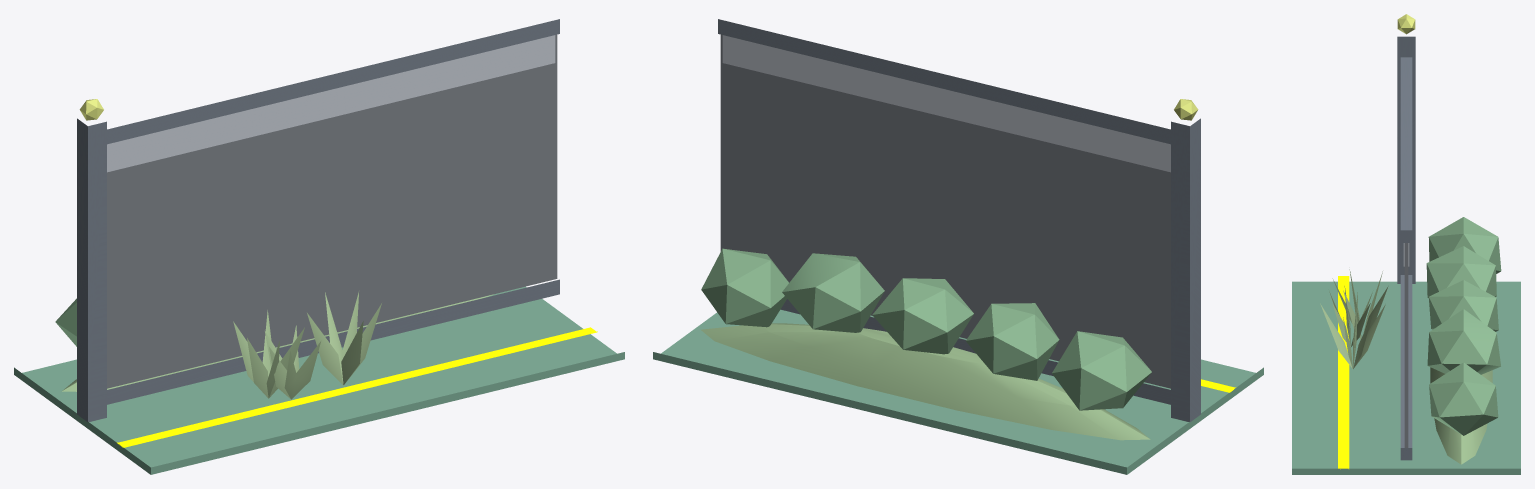
Rendered from v4_panel.glb.
3 renders of one model, left to right at view 1: azimuth 30°, elevation 25°; view 2: azimuth 150°, elevation 25°; view 3: azimuth 270°, elevation 25°, orthographic. The views are drawn at different scales.
Visible parts, largest first — view 1: Infill, Safety_Pad, Infill_Tape, Rails, Posts, Grass_Tufts, Court_Line, Terrain; view 2: Infill, Foliage, Terrain, Safety_Pad, Infill_Tape, Posts, Rails; view 3: Safety_Pad, Foliage, Rails, Posts, Grass_Tufts, Court_Line, Terrain, Infill, Ball_Finials.
Part boxes in pixels (x1,y1,x2,y2): Infill: (107,34,557,388); Safety_Pad: (14,286,624,474); Infill_Tape: (107,35,555,172); Rails: (107,19,559,404); Posts: (77,118,106,421); Grass_Tufts: (233,292,381,399); Court_Line: (116,327,597,447); Terrain: (61,294,493,391); Infill: (720,34,1170,388); Foliage: (701,248,1151,410); Terrain: (701,323,1150,440); Safety_Pad: (653,309,1263,474); Infill_Tape: (722,35,1170,172); Posts: (1171,118,1200,421); Rails: (718,19,1170,404); Safety_Pad: (1292,281,1520,474); Foliage: (1426,217,1501,435); Rails: (1400,57,1412,460); Posts: (1397,36,1415,283); Grass_Tufts: (1320,269,1388,368); Court_Line: (1338,276,1349,469); Terrain: (1430,367,1492,464); Infill: (1404,243,1408,447); Ball_Finials: (1397,14,1415,34).
Size of what is drawn, in the model's own units: 2 by 1.3 by 1.
Materials: 9 (2 with a texture image).
